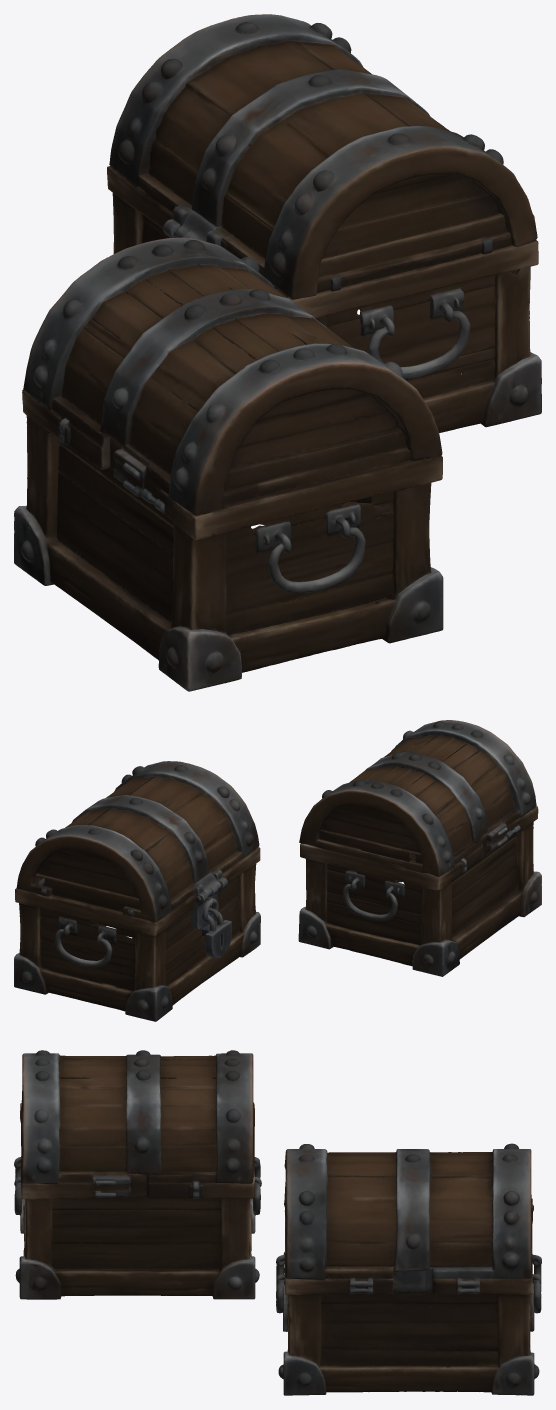
The model's file is chest.glb.
3 renders of one model, top to bottom at view 1: azimuth 30°, elevation 25°; view 2: azimuth 150°, elevation 25°; view 3: azimuth 270°, elevation 25°, orthographic. The views are drawn at different scales.
Parts seen in each view (by area): view 1: world; view 2: world; view 3: world.
Part boxes in pixels (x1,y1,x2,y2): world: [14, 14, 541, 691]; world: [14, 720, 541, 1021]; world: [14, 1050, 541, 1395].
Bounding box in the file's own units: 0.817 × 0.4161 × 0.9934.
1 material, 1 textured.
